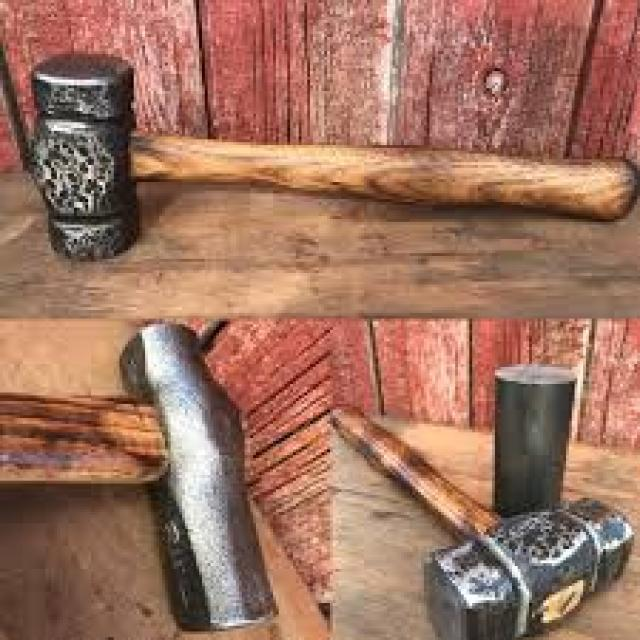hammer: (28, 43, 640, 259), (0, 318, 293, 638), (318, 389, 640, 640)
